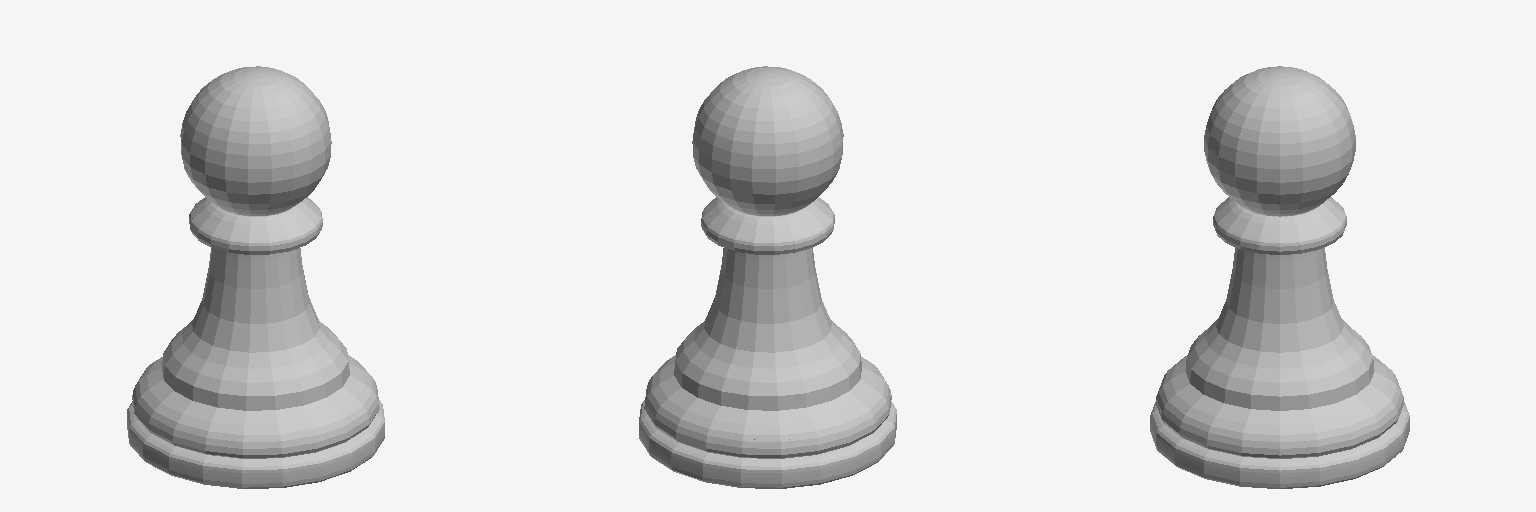
Rendered from pawn_b_4.obj.
The picture shows the model from 3 angles: view 1: azimuth 30°, elevation 25°; view 2: azimuth 150°, elevation 25°; view 3: azimuth 270°, elevation 25°; orthographic projection.
Parts seen in each view (by area): view 1: pawn_b_4; view 2: pawn_b_4; view 3: pawn_b_4.
Part boxes in pixels (x1,y1,x2,y2): pawn_b_4: (127,66,384,488); pawn_b_4: (639,66,896,488); pawn_b_4: (1150,66,1409,488).
Bounding box in the file's own units: 2.73 × 4.2 × 2.73.